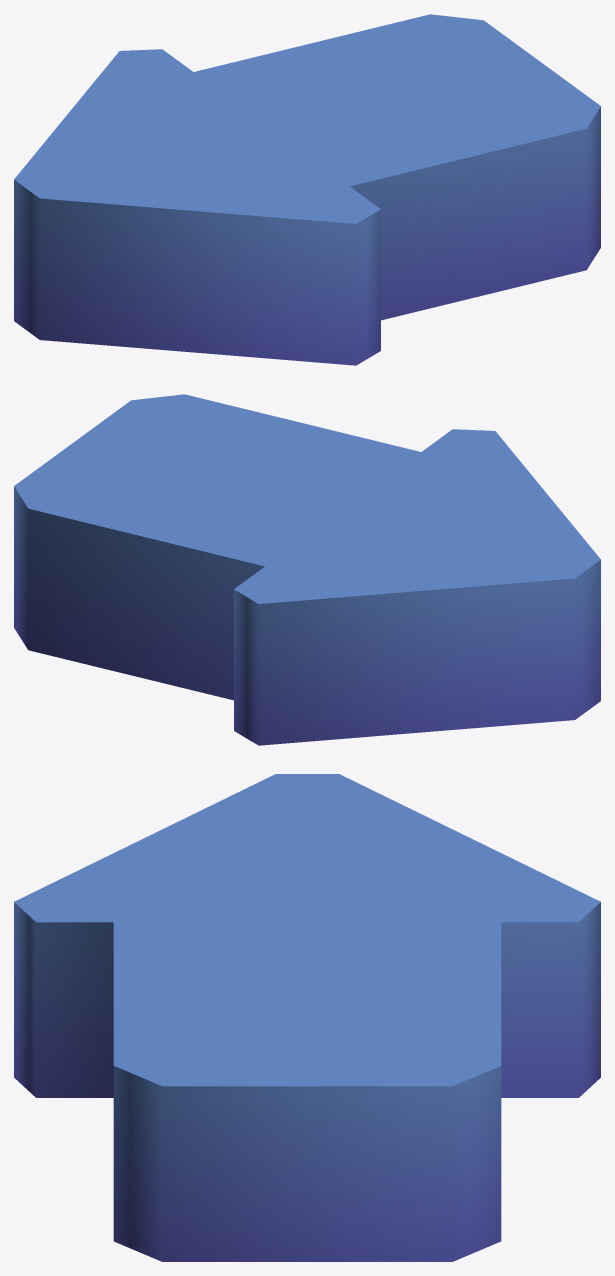
File: kenney-conveyor-arrow-rounded.glb
The picture shows the model from 3 angles, top to bottom: view 1: azimuth 30°, elevation 25°; view 2: azimuth 150°, elevation 25°; view 3: azimuth 270°, elevation 25°; orthographic projection. The views are drawn at different scales.
Visible parts, largest first — view 1: arrow-rounded; view 2: arrow-rounded; view 3: arrow-rounded.
Part boxes in pixels (x1,y1,x2,y2): arrow-rounded: [14, 14, 600, 365]; arrow-rounded: [14, 394, 600, 745]; arrow-rounded: [14, 774, 600, 1261].
Bounding box in the file's own units: 0.7618 × 0.2 × 0.6056.
Materials: 1 (1 with a texture image).
